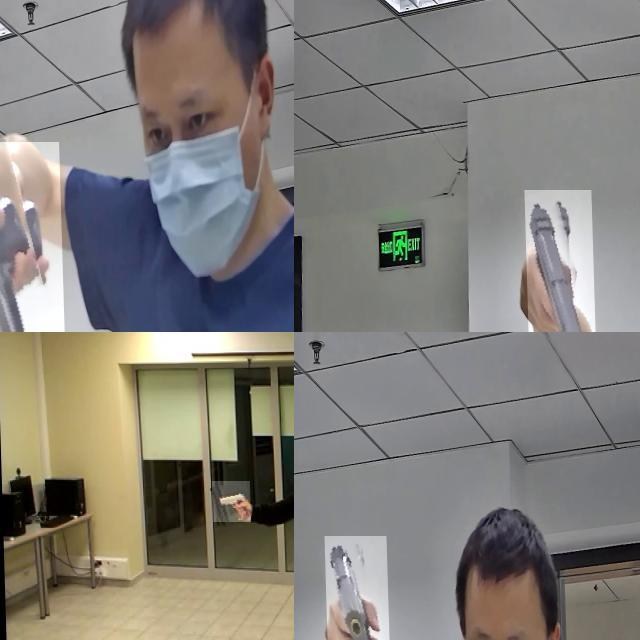gun-knife-thesis - v11 Yolov5 augmented: (0, 142, 65, 332), (522, 190, 594, 332), (322, 535, 388, 640), (210, 481, 248, 522)
